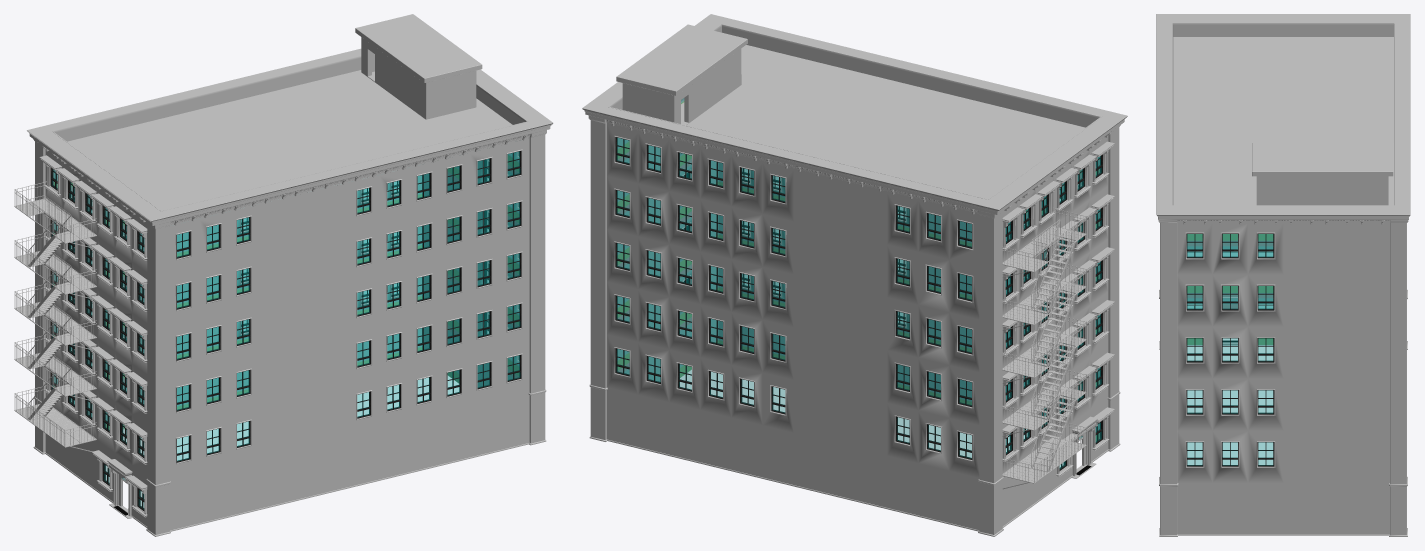
File: SM_Building08_V1.fbx
The picture shows the model from 3 angles, left to right: view 1: azimuth 30°, elevation 25°; view 2: azimuth 150°, elevation 25°; view 3: azimuth 270°, elevation 25°; orthographic projection. The views are drawn at different scales.
Visible parts, largest first — view 1: SM_Building08_V1; view 2: SM_Building08_V1; view 3: SM_Building08_V1.
Boxes of the visible parts, left/top/right/bottom form: SM_Building08_V1: left=14, top=14, right=553, bottom=536; SM_Building08_V1: left=582, top=14, right=1127, bottom=536; SM_Building08_V1: left=1156, top=14, right=1410, bottom=536.
Bounding box in the file's own units: 3541 × 2768 × 1791.
